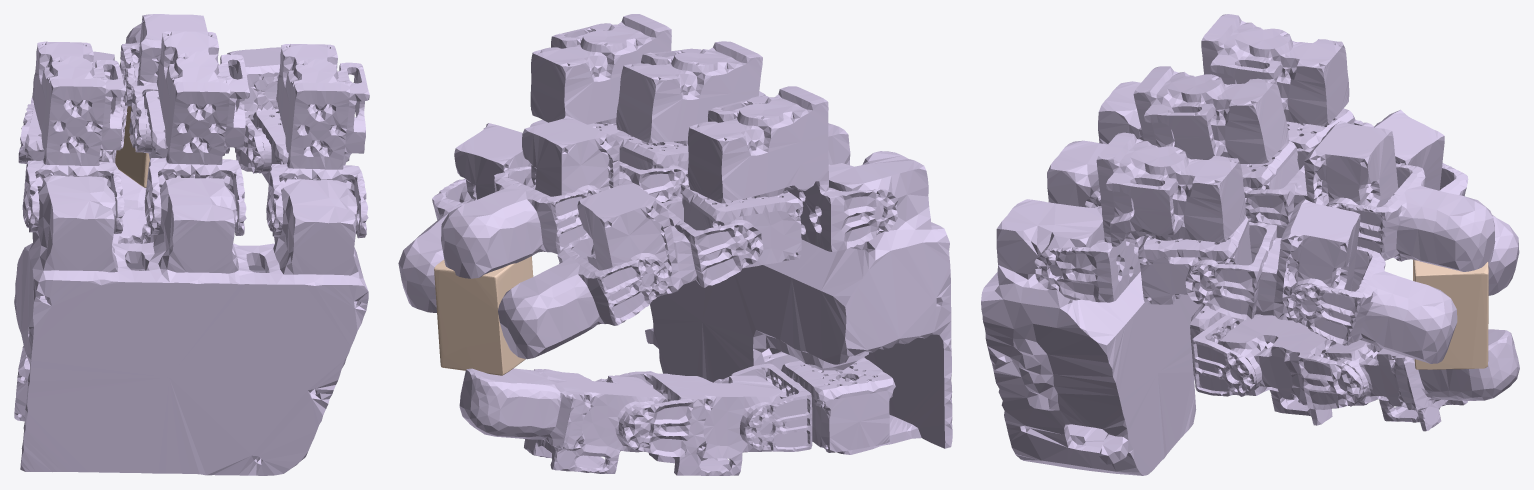
The picture shows the model from 3 angles, left to right: view 1: azimuth 30°, elevation 25°; view 2: azimuth 150°, elevation 25°; view 3: azimuth 270°, elevation 25°; orthographic projection. The views are drawn at different scales.
Parts seen in each view (by area): view 1: LEAP_hand, world; view 2: LEAP_hand, world; view 3: LEAP_hand, world.
Part boxes in pixels (bbox=[...]): LEAP_hand: bbox=[14, 14, 369, 475]; world: bbox=[115, 106, 149, 187]; LEAP_hand: bbox=[398, 14, 952, 475]; world: bbox=[434, 256, 533, 375]; LEAP_hand: bbox=[981, 14, 1519, 475]; world: bbox=[1413, 259, 1488, 369].
Size of the model in its own units: 0.1612 by 0.1454 by 0.1863.
